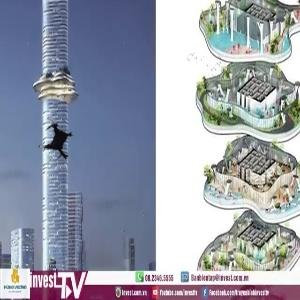drone: (31, 116, 82, 167)
